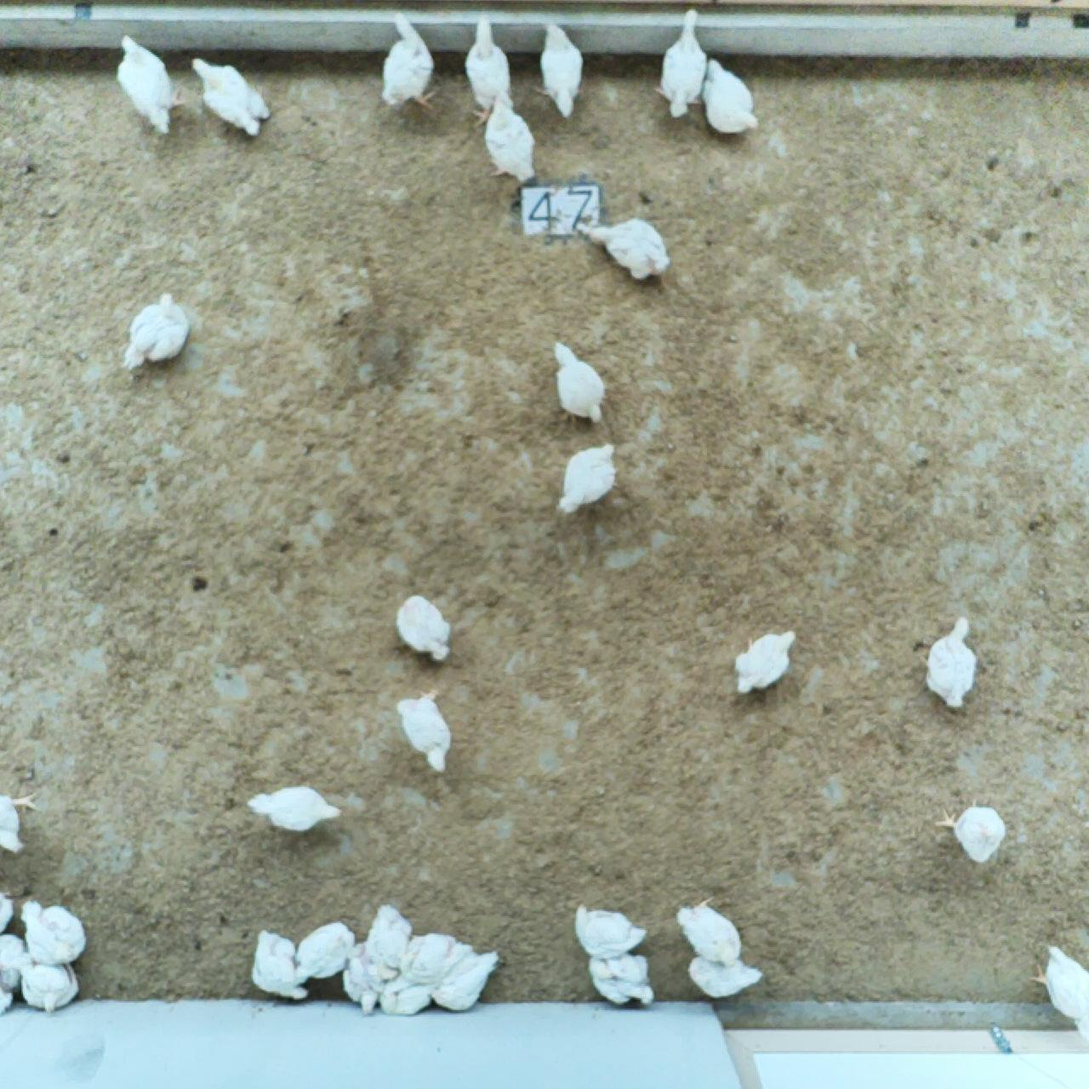chicken: (117, 36, 185, 135), (191, 57, 269, 136), (575, 218, 670, 281), (381, 12, 439, 114), (656, 9, 707, 118), (918, 616, 976, 709), (1033, 945, 1089, 1038), (465, 9, 509, 125), (124, 292, 190, 368), (535, 20, 584, 118), (396, 689, 451, 773), (934, 800, 1006, 864), (485, 93, 535, 184), (553, 343, 607, 425), (676, 898, 741, 966), (557, 442, 617, 515), (248, 786, 345, 831), (19, 899, 85, 965), (430, 951, 500, 1012), (702, 60, 759, 134), (251, 930, 307, 1001), (574, 904, 649, 957), (395, 596, 452, 664), (734, 630, 795, 693), (12, 955, 79, 1012), (400, 932, 472, 983), (587, 955, 653, 1007), (296, 922, 356, 979), (687, 955, 763, 999), (367, 904, 413, 976), (343, 942, 383, 1013), (1, 791, 37, 852), (380, 978, 431, 1015), (1, 934, 26, 990), (1, 889, 14, 933), (1, 989, 13, 1017)
